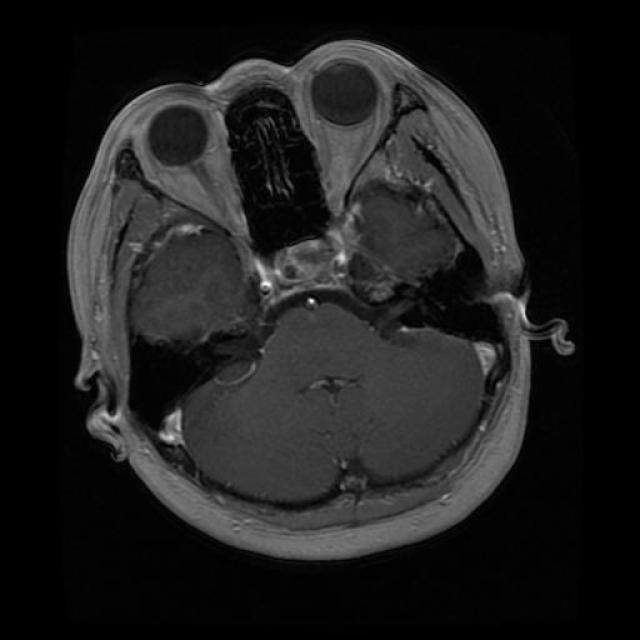pituitary: (234, 201, 354, 311)
